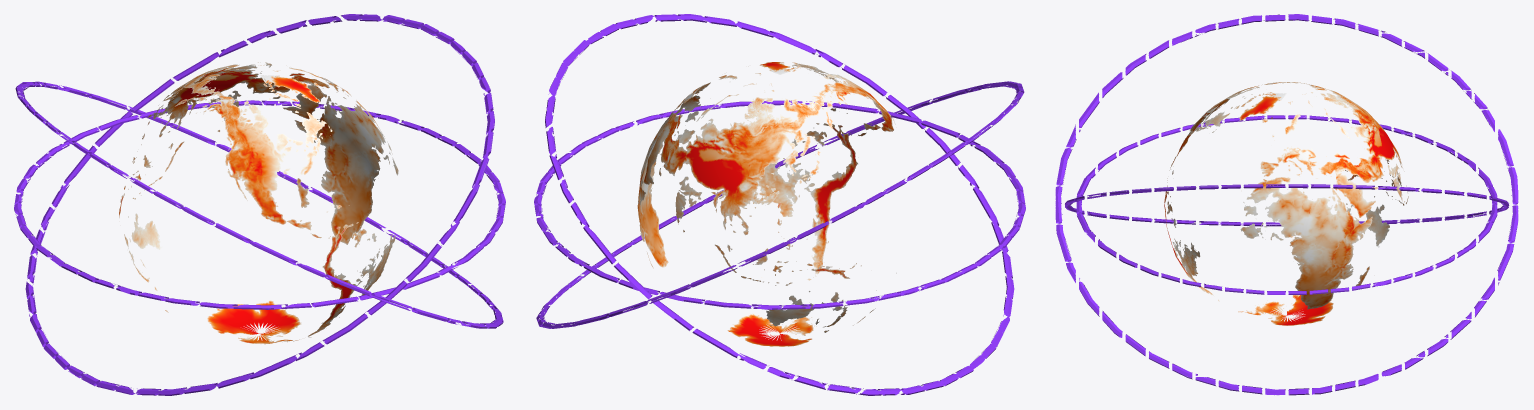
Rendered from FUT0410067.fbx.
3 renders of one model, left to right at view 1: azimuth 30°, elevation 25°; view 2: azimuth 150°, elevation 25°; view 3: azimuth 270°, elevation 25°, orthographic. The views are drawn at different scales.
Visible parts, largest first — view 1: smFUT0410067; view 2: smFUT0410067; view 3: smFUT0410067.
Boxes of the visible parts, <box> form: smFUT0410067: <box>14,14,505,395</box>; smFUT0410067: <box>534,14,1025,395</box>; smFUT0410067: <box>1055,14,1518,395</box>.
Bounding box in the file's own units: 343 × 200 × 379.
